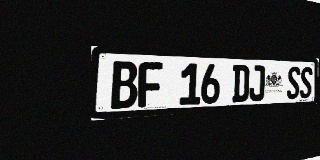1: (180, 63, 201, 105)
6: (201, 64, 220, 104)
B: (111, 61, 138, 109)
D: (232, 65, 249, 102)
F: (138, 62, 163, 108)
J: (249, 65, 265, 101)
S: (286, 66, 300, 99), (299, 67, 312, 98)
